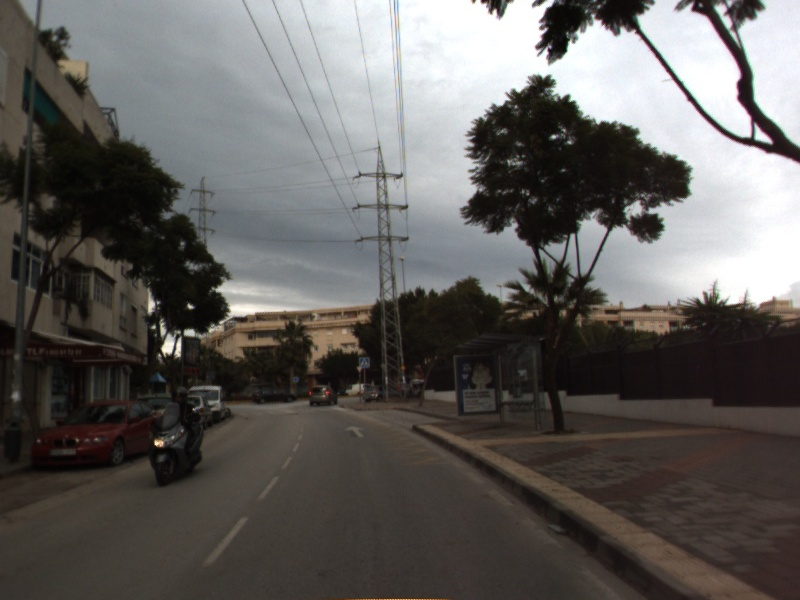STRAIGHT: (342, 423, 368, 439)
